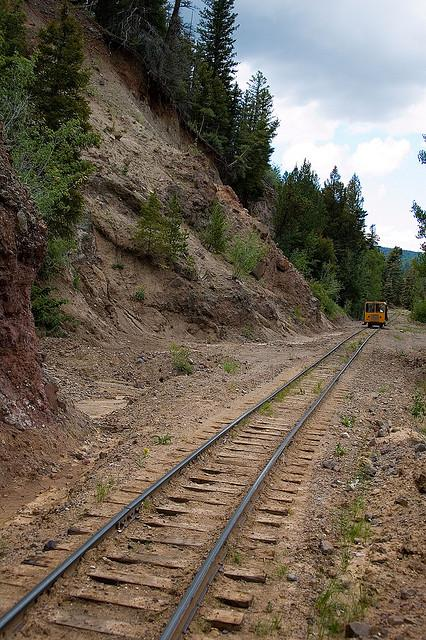Train: (365, 302, 388, 333)
